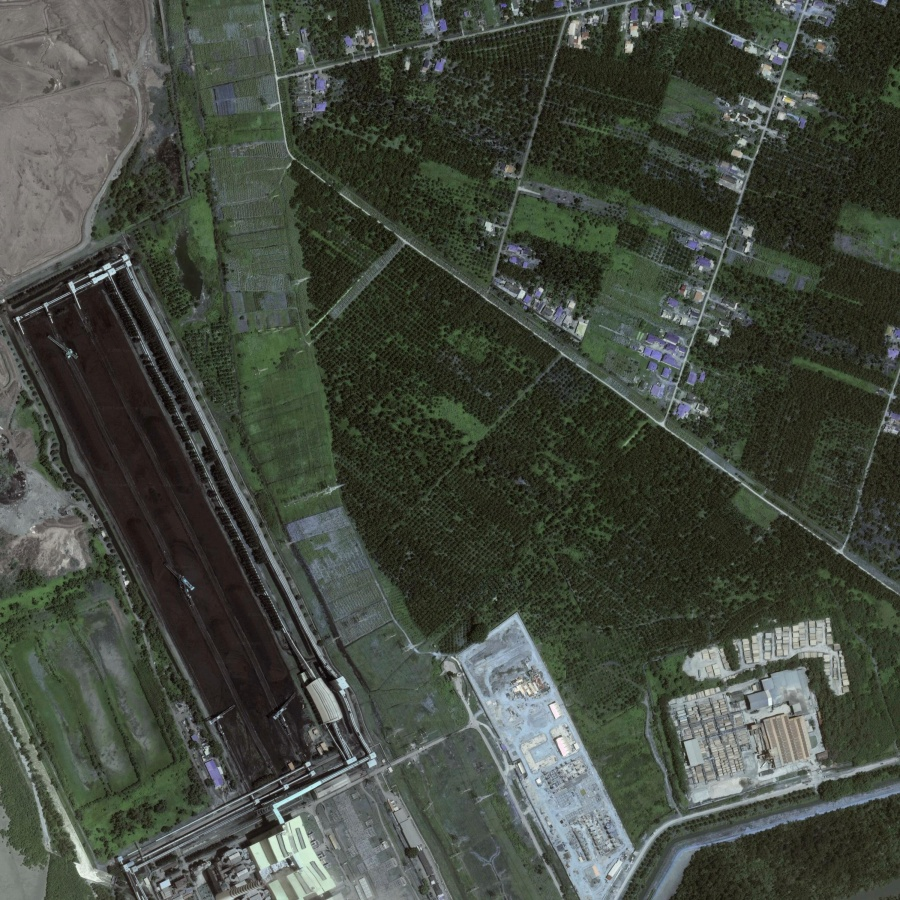PowerPlant: (22, 256, 345, 794)
